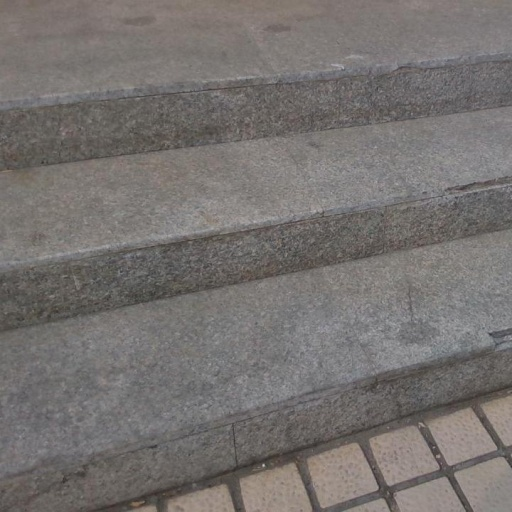Stairs: (0, 60, 512, 512)
